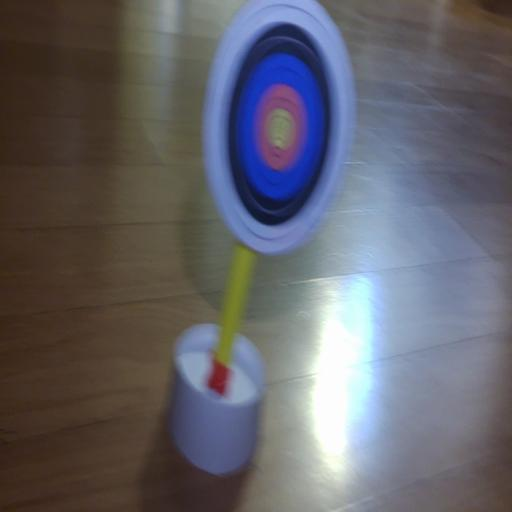target: (203, 0, 355, 254)
